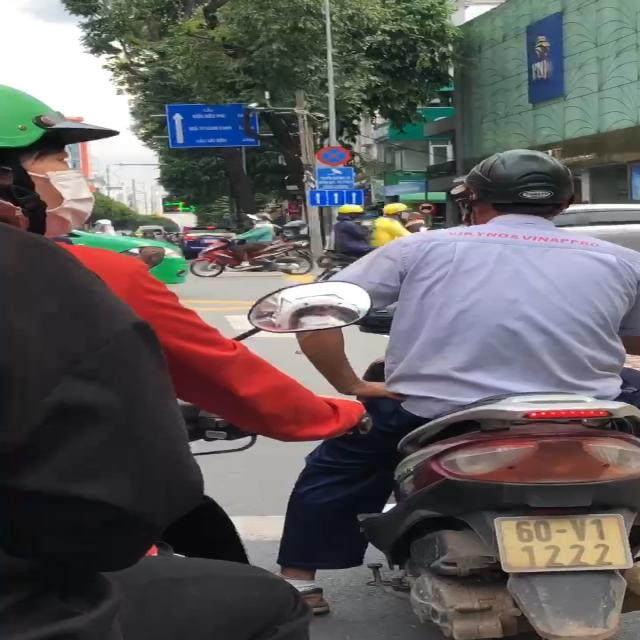Bien bao cam dung xe va do xe: (314, 144, 355, 166)
